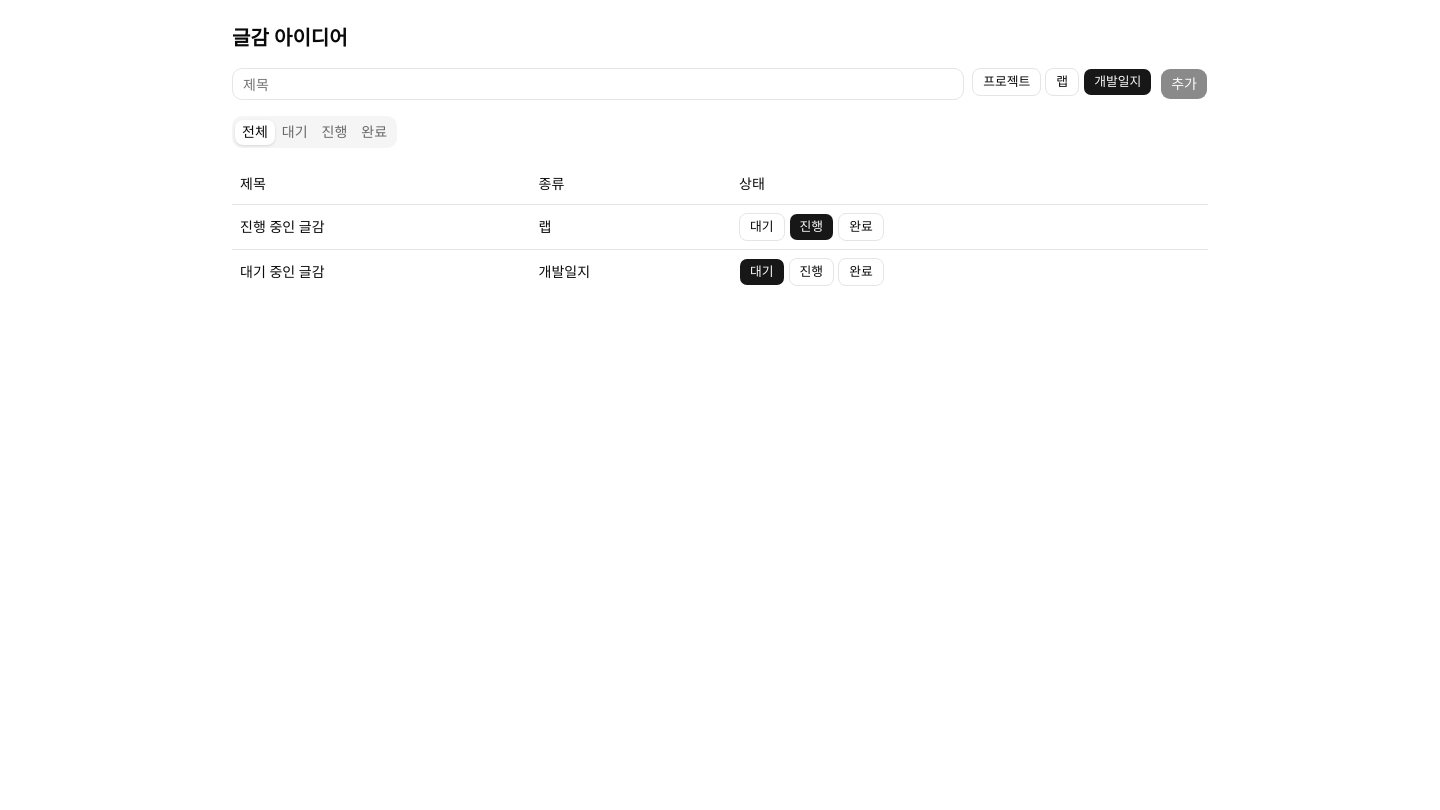
Test: IdeasPage 삭제 › 예외 › 404이면 "이미 삭제된 글감입니다"가 표 위에 보이고 대화상자가 닫히며 목록이 다시 조회돼야 한다
This screenshot has width=1440, height=810.
Click the text "진행 중인 글감". click: [282, 226]
box: top-left (232, 204), bottom-right (531, 249)
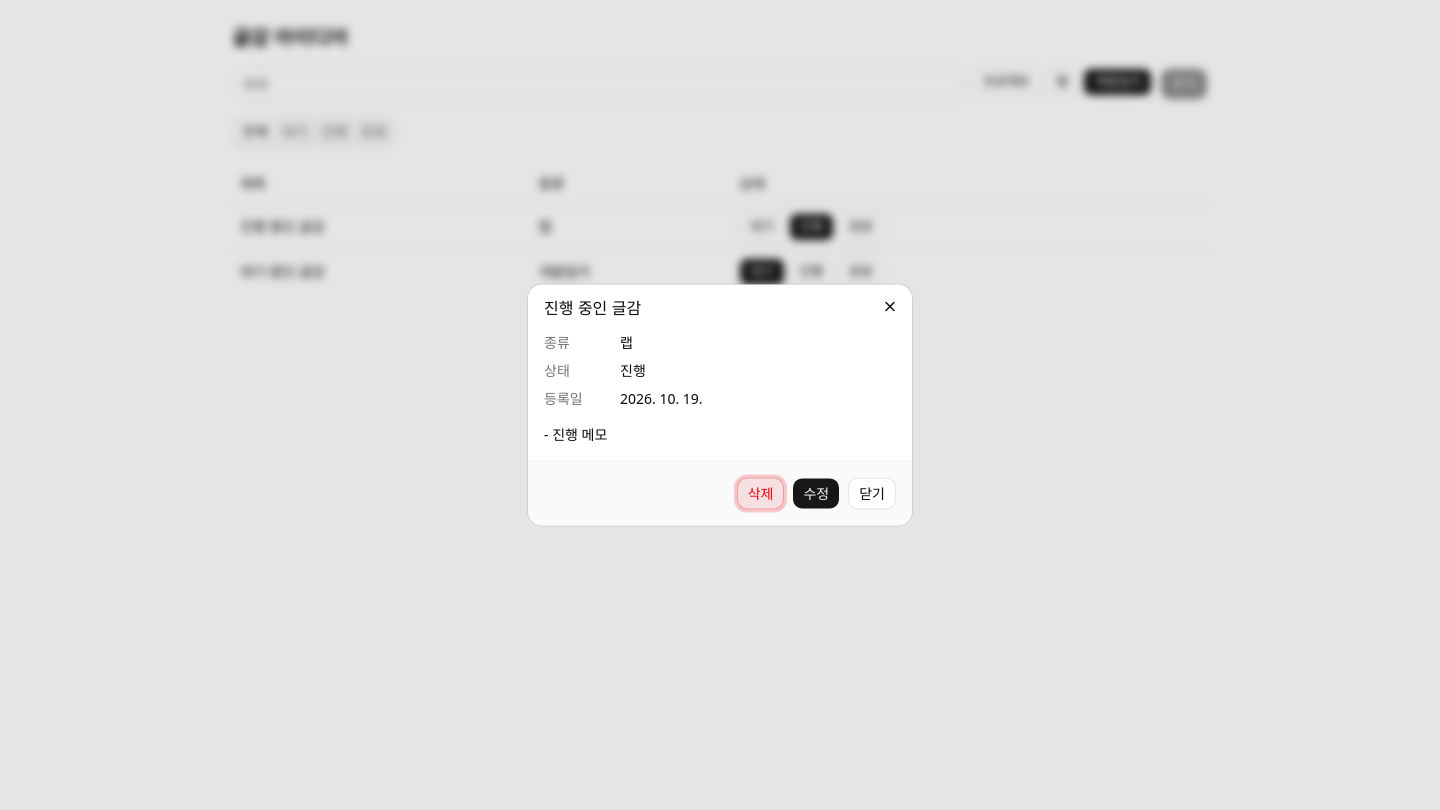
Click the button "삭제". click: [761, 494]
box: top-left (737, 478), bottom-right (784, 510)
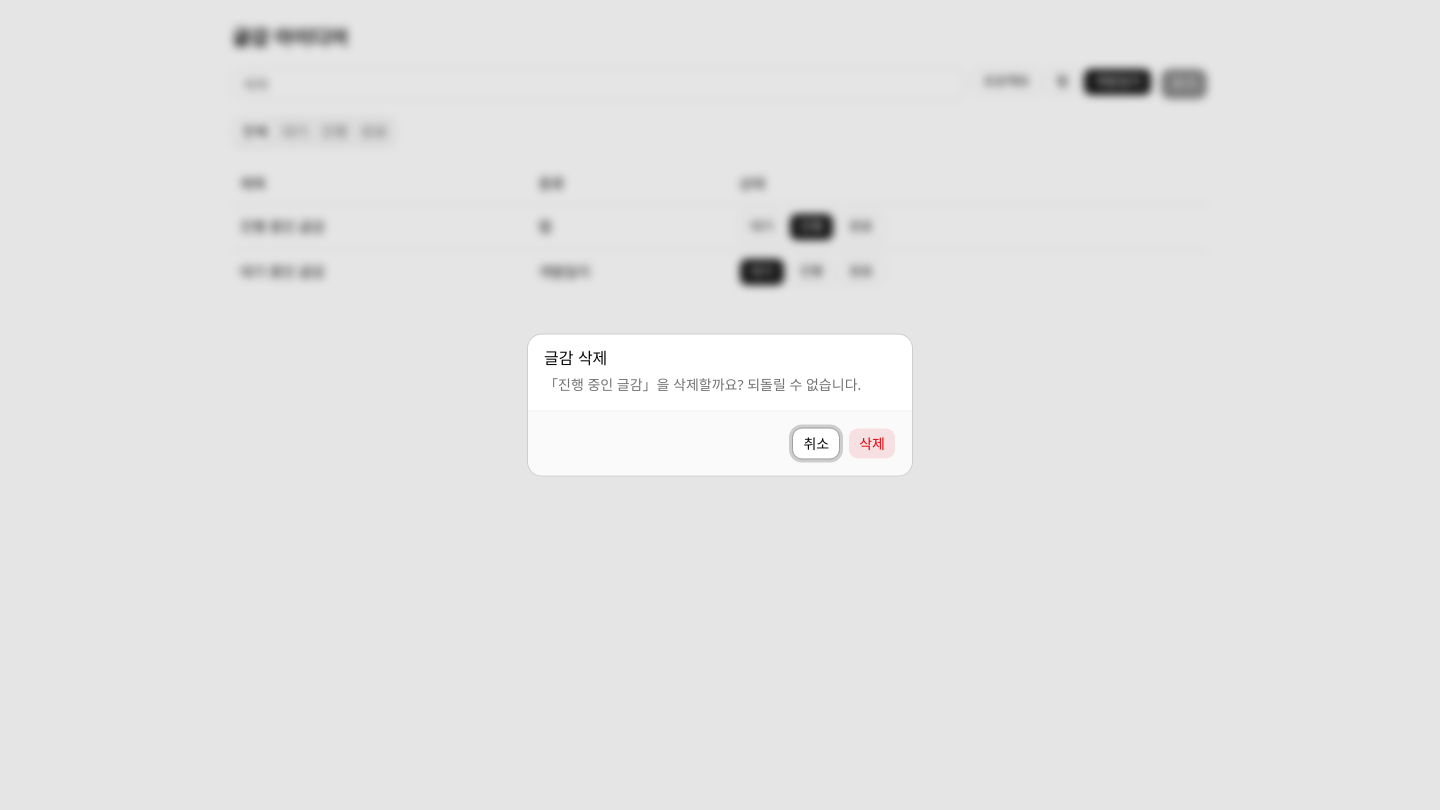
Click the button "삭제". click: [872, 444]
box: top-left (848, 428), bottom-right (896, 460)
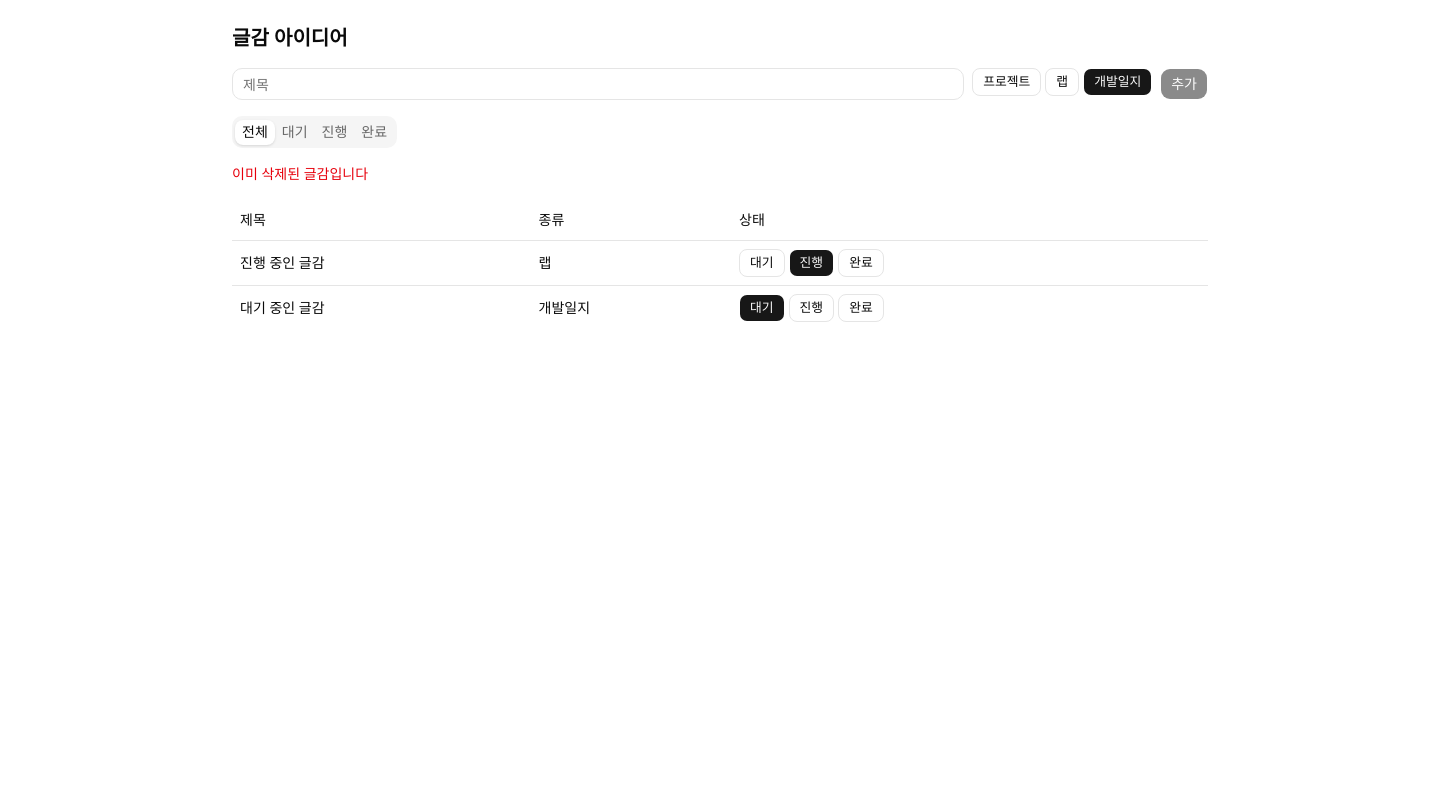
Check: the message reads "이미 삭제된 글감입니다", box top-left (232, 164), bottom-right (368, 183)
Check: the dialog is gone
